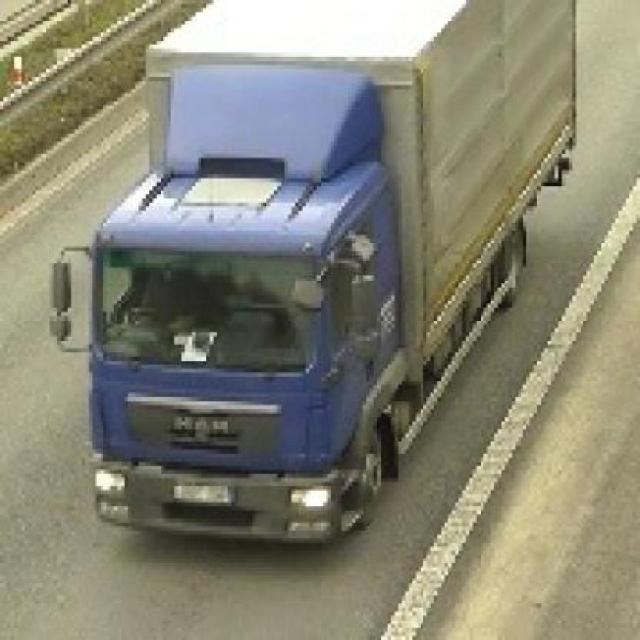truck: (46, 1, 577, 539)
